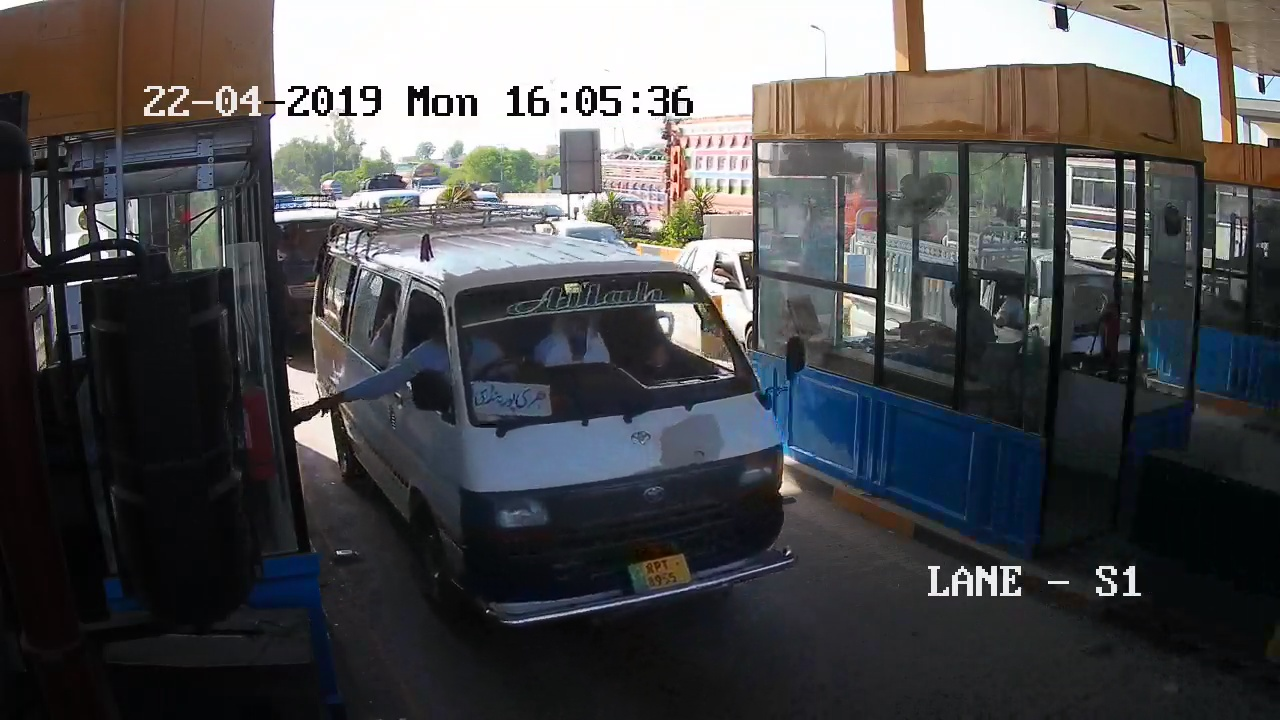Number Plate (Car): (622, 552, 699, 593)
